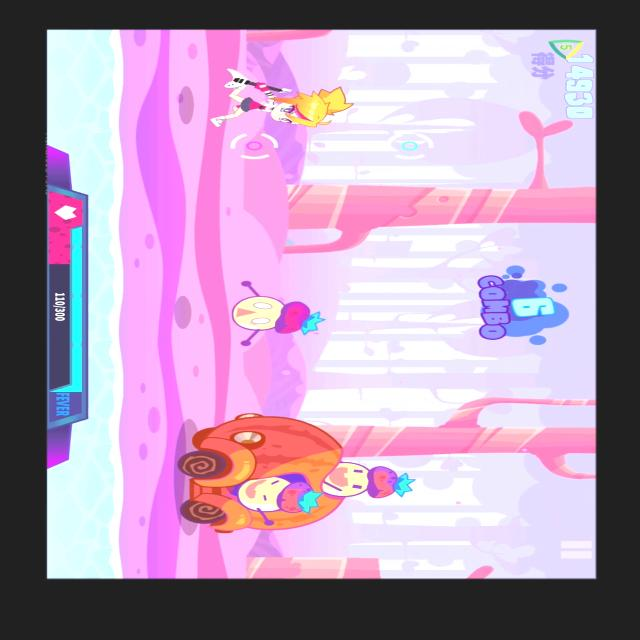cheboss: (172, 410, 420, 538)
qiu: (209, 279, 339, 349)
